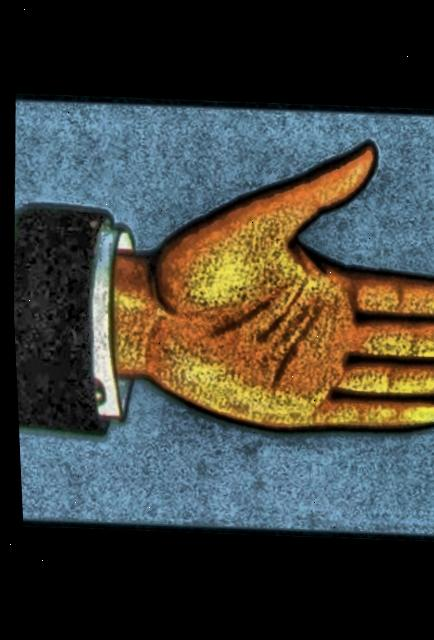La Mano: (3, 95, 434, 537)
